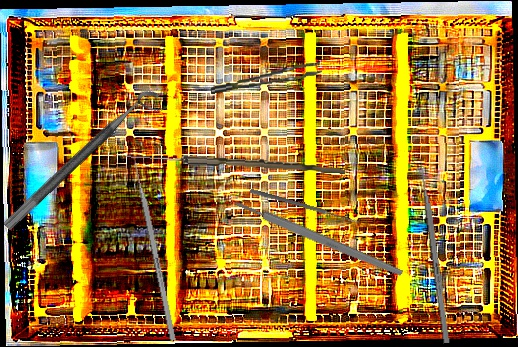Fixation Ring: (1, 84, 170, 244)
Pusher: (129, 147, 177, 342), (416, 155, 451, 344)
Scalpel Handle: (233, 198, 404, 278)
Surgical Spoon: (125, 152, 346, 174), (249, 188, 360, 225)
Tissue Forceps: (209, 62, 323, 94)
